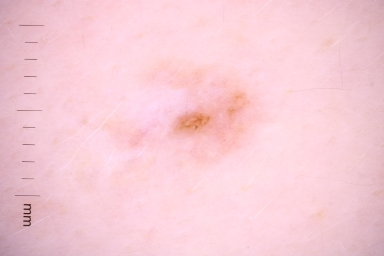melanoma: (173, 70, 261, 163)
